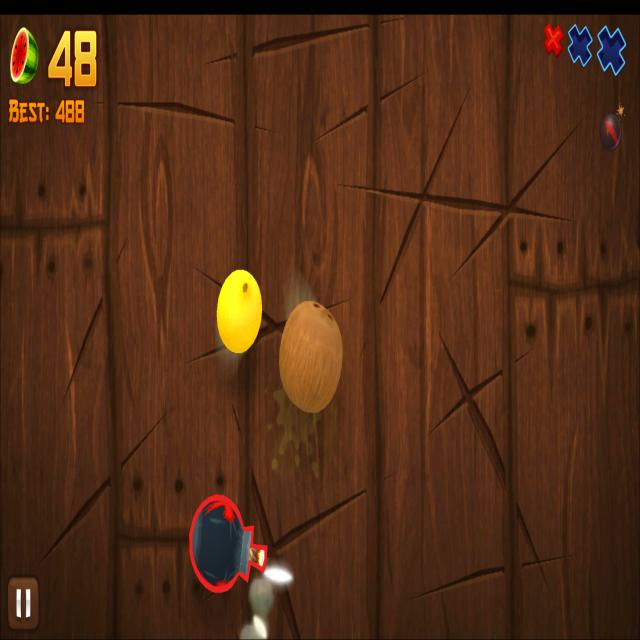bomb: (189, 495, 268, 593)
fruit: (279, 299, 344, 414), (217, 270, 262, 354)
